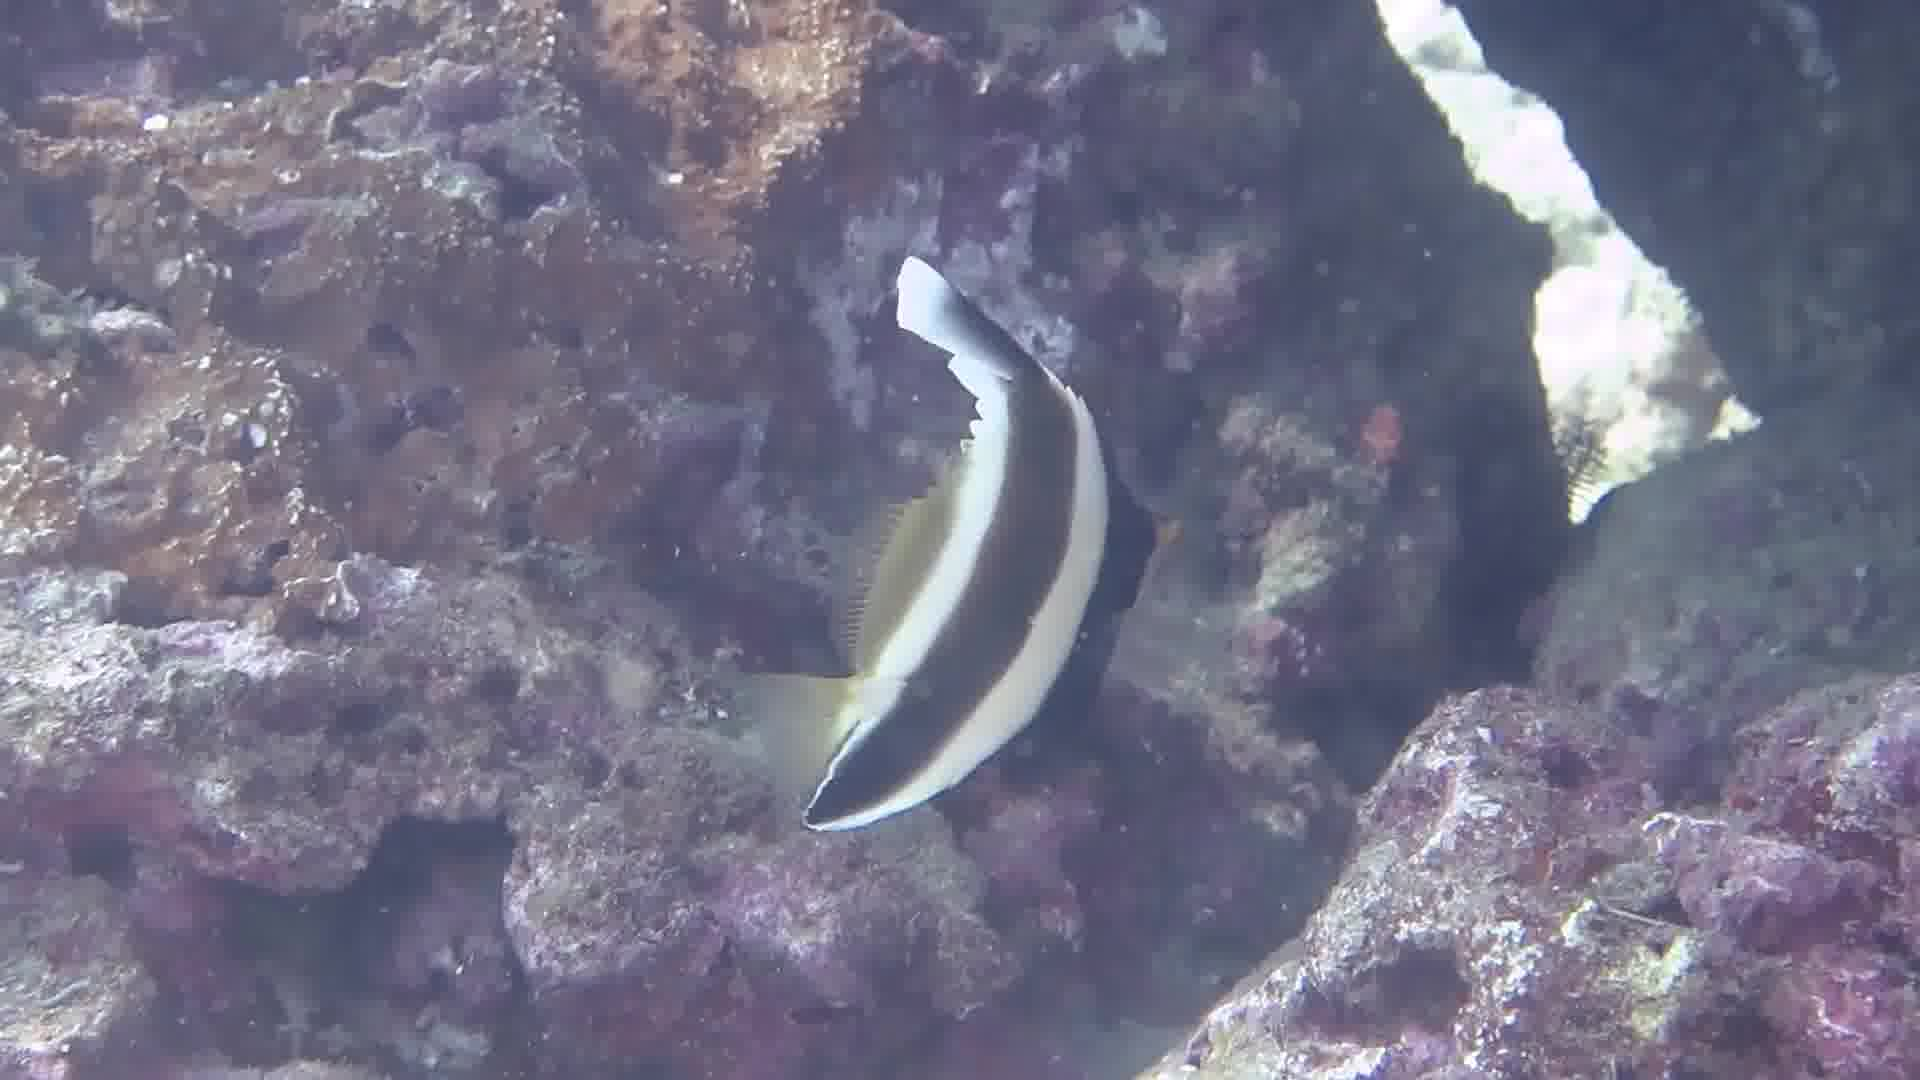Heniochus chrysostomus: (640, 239, 1284, 828)
